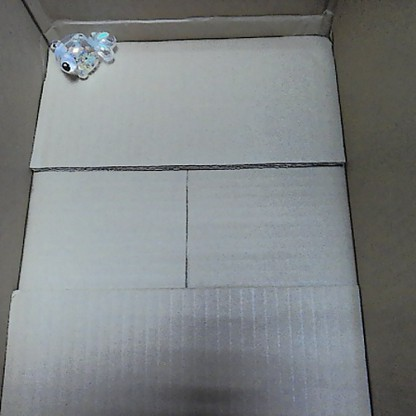whitefish: (46, 29, 117, 80)
